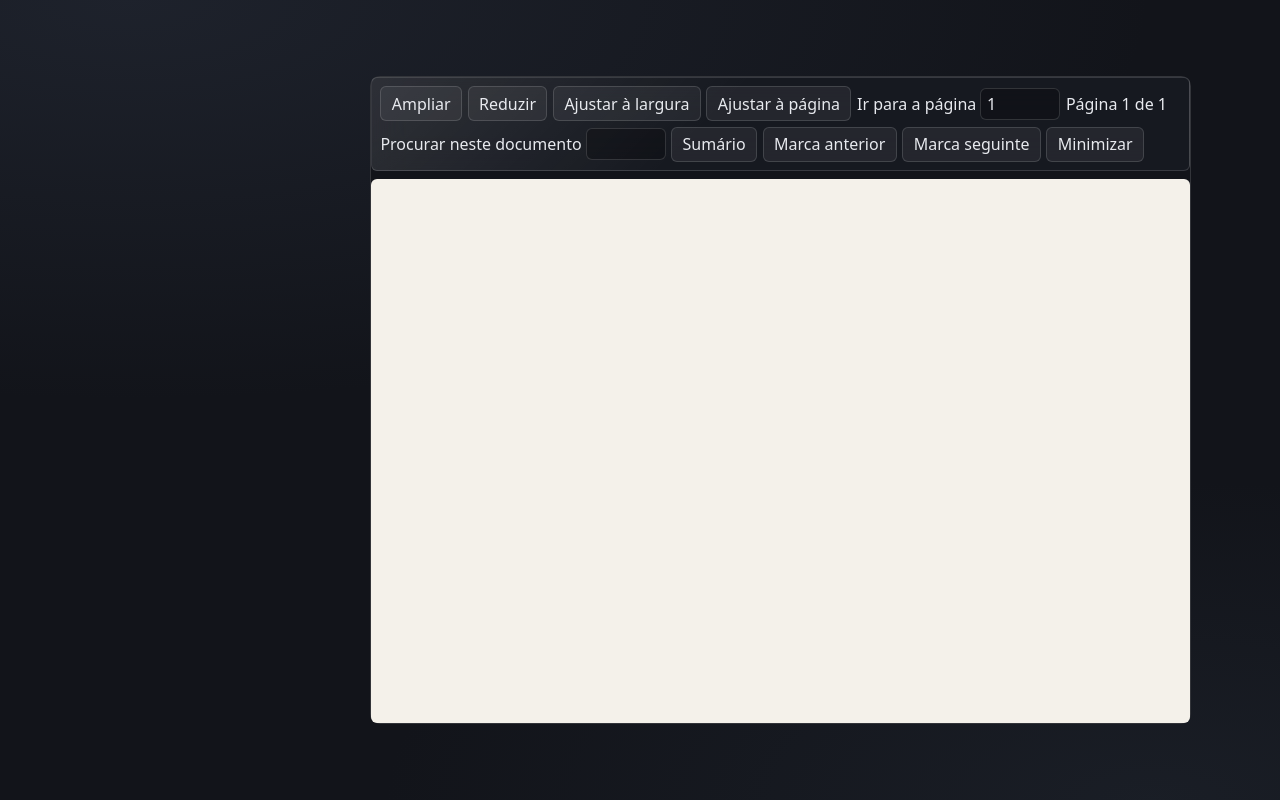
Test case: REG-LEI-004 › ir à página e procurar neste documento
The image size is (1280, 800).
Expected: the dialog is shown, top-left (370, 76), bottom-right (1191, 724)
Replace the text in the number field labelled "Ir para a página" with "2" at {"x": 1020, "y": 104}, box top-left (980, 88), bottom-right (1060, 120)
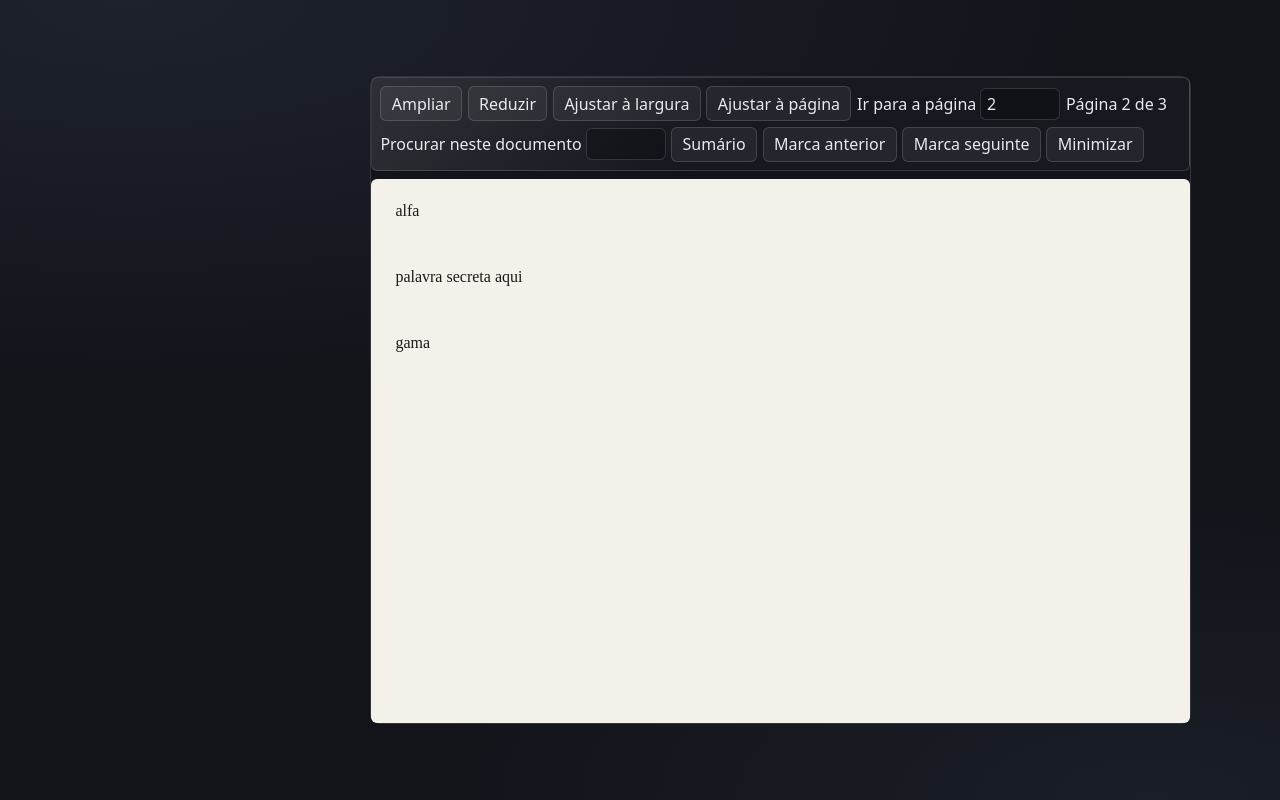
Type "secreta" into the search field labelled "Procurar neste documento" at {"x": 626, "y": 144}, box top-left (586, 128), bottom-right (666, 160)
Then press Enter
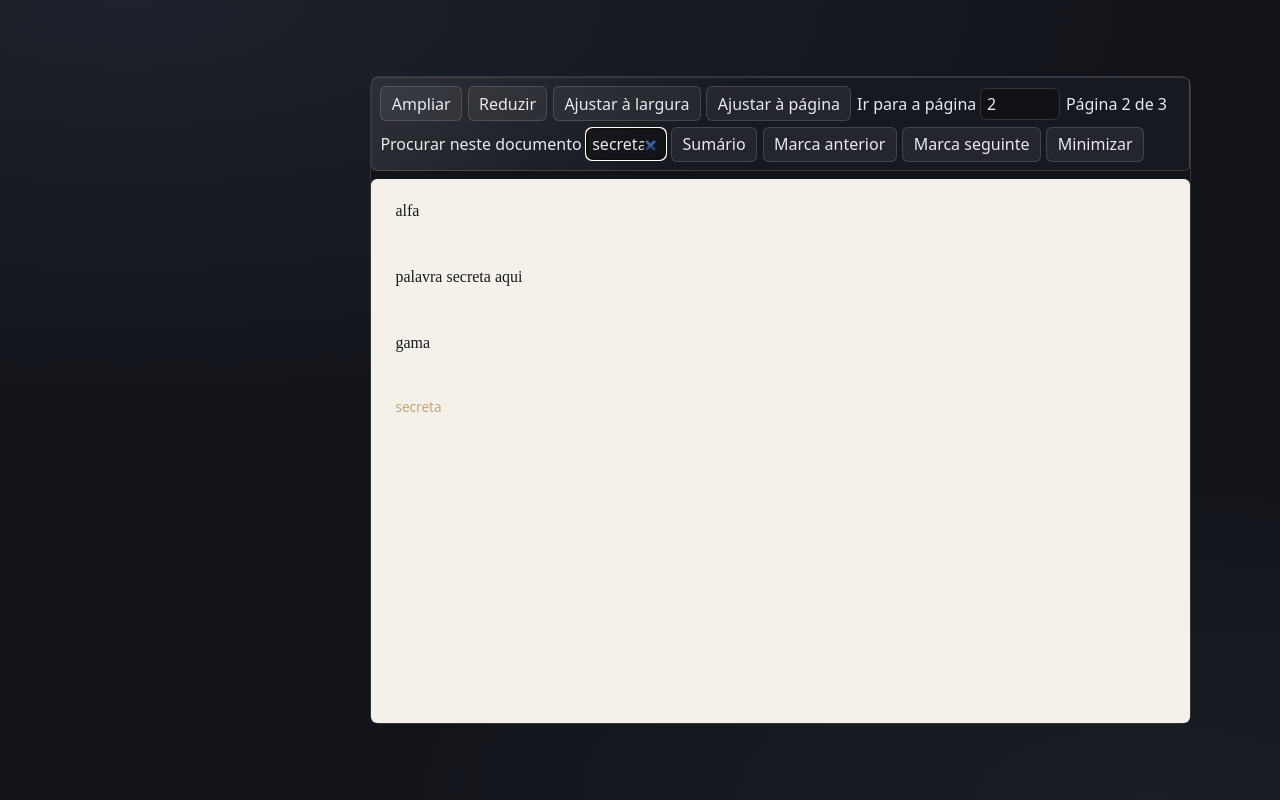
Now the message reads "secreta", box top-left (395, 397), bottom-right (442, 416)
